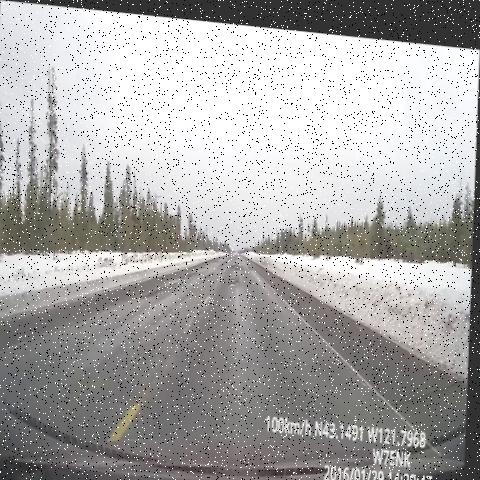pothole: (138, 264, 181, 314), (225, 267, 248, 294), (176, 259, 200, 284), (226, 253, 248, 270), (244, 255, 258, 268)
